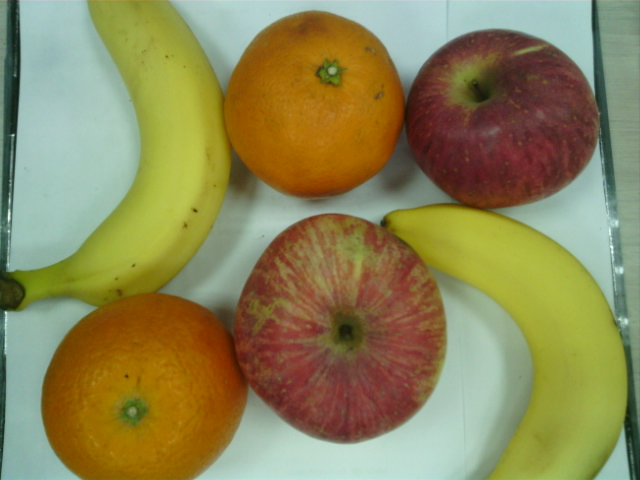normal_apple: (234, 212, 447, 443), (407, 29, 600, 207)
normal_banana: (2, 1, 229, 310), (382, 205, 628, 480)
normal_orange: (42, 293, 248, 480), (223, 10, 404, 198)
